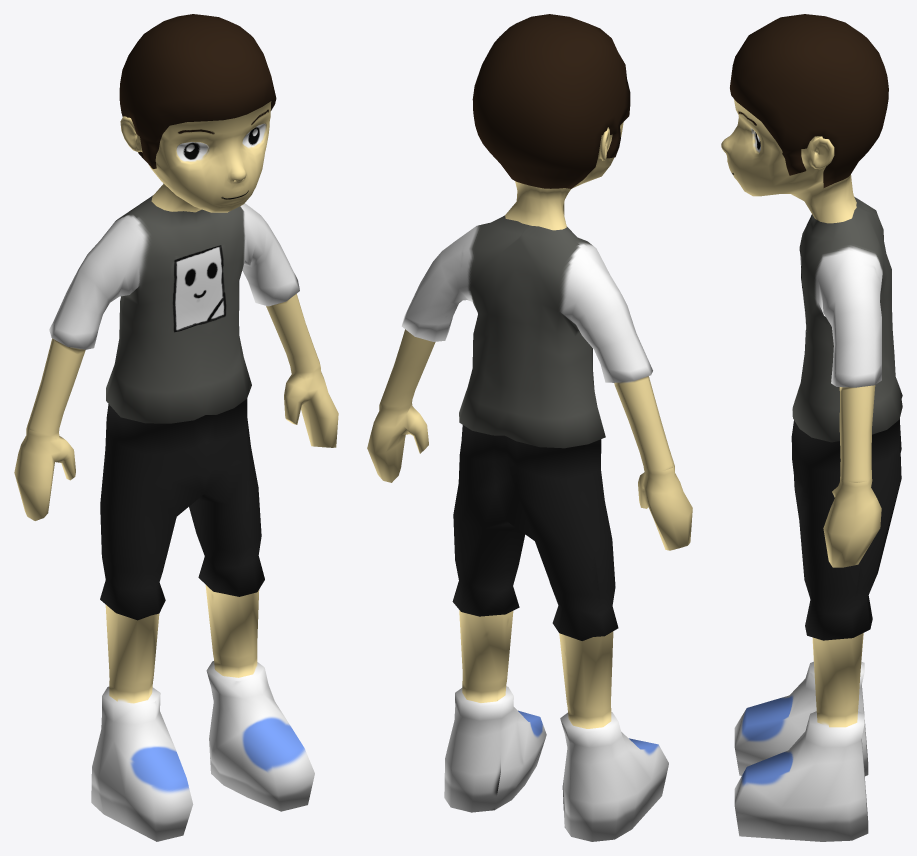
The model's file is todd.fbx.
3 renders of one model, left to right at view 1: azimuth 30°, elevation 25°; view 2: azimuth 150°, elevation 25°; view 3: azimuth 270°, elevation 25°, orthographic.
Visible parts, largest first — view 1: Body; view 2: Body; view 3: Body.
Part boxes in pixels (x1,y1,x2,y2): Body: (14, 14, 338, 841); Body: (367, 14, 692, 841); Body: (721, 14, 902, 841).
Bounding box in the file's own units: 339 × 794 × 168.
Materials: 1 (1 with a texture image).
